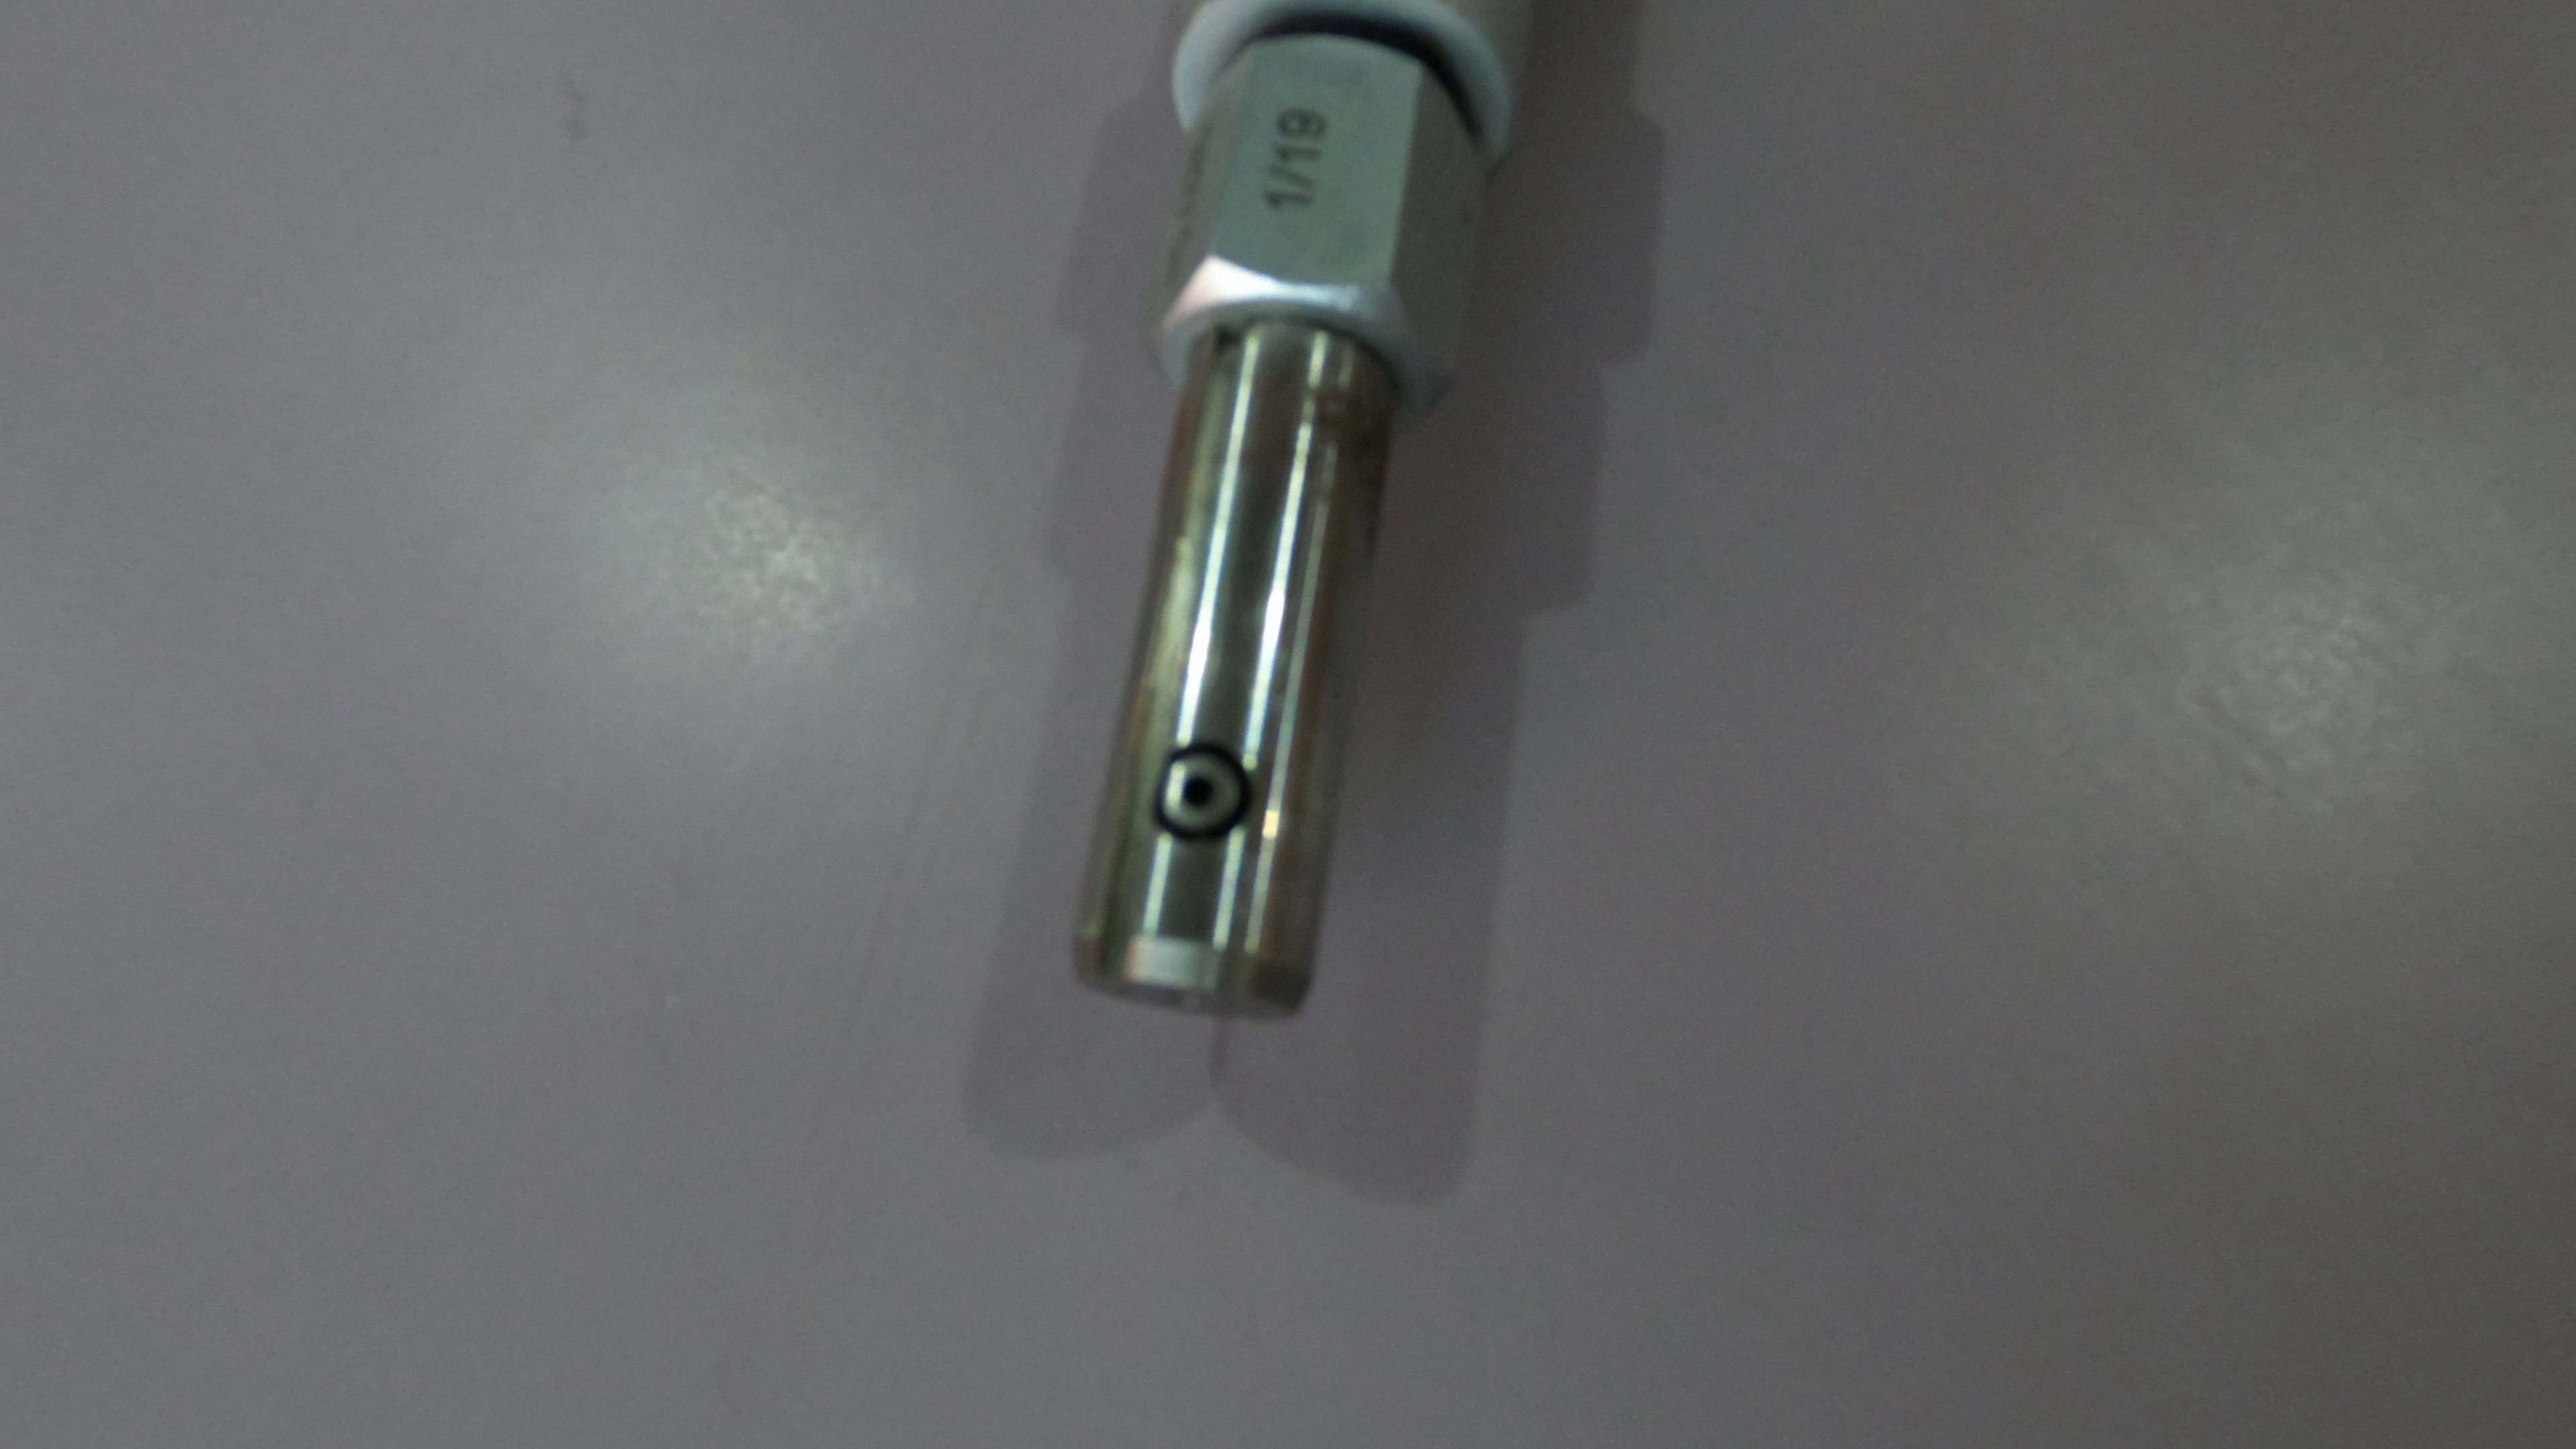air_gauge: (1062, 2, 1530, 1030)
